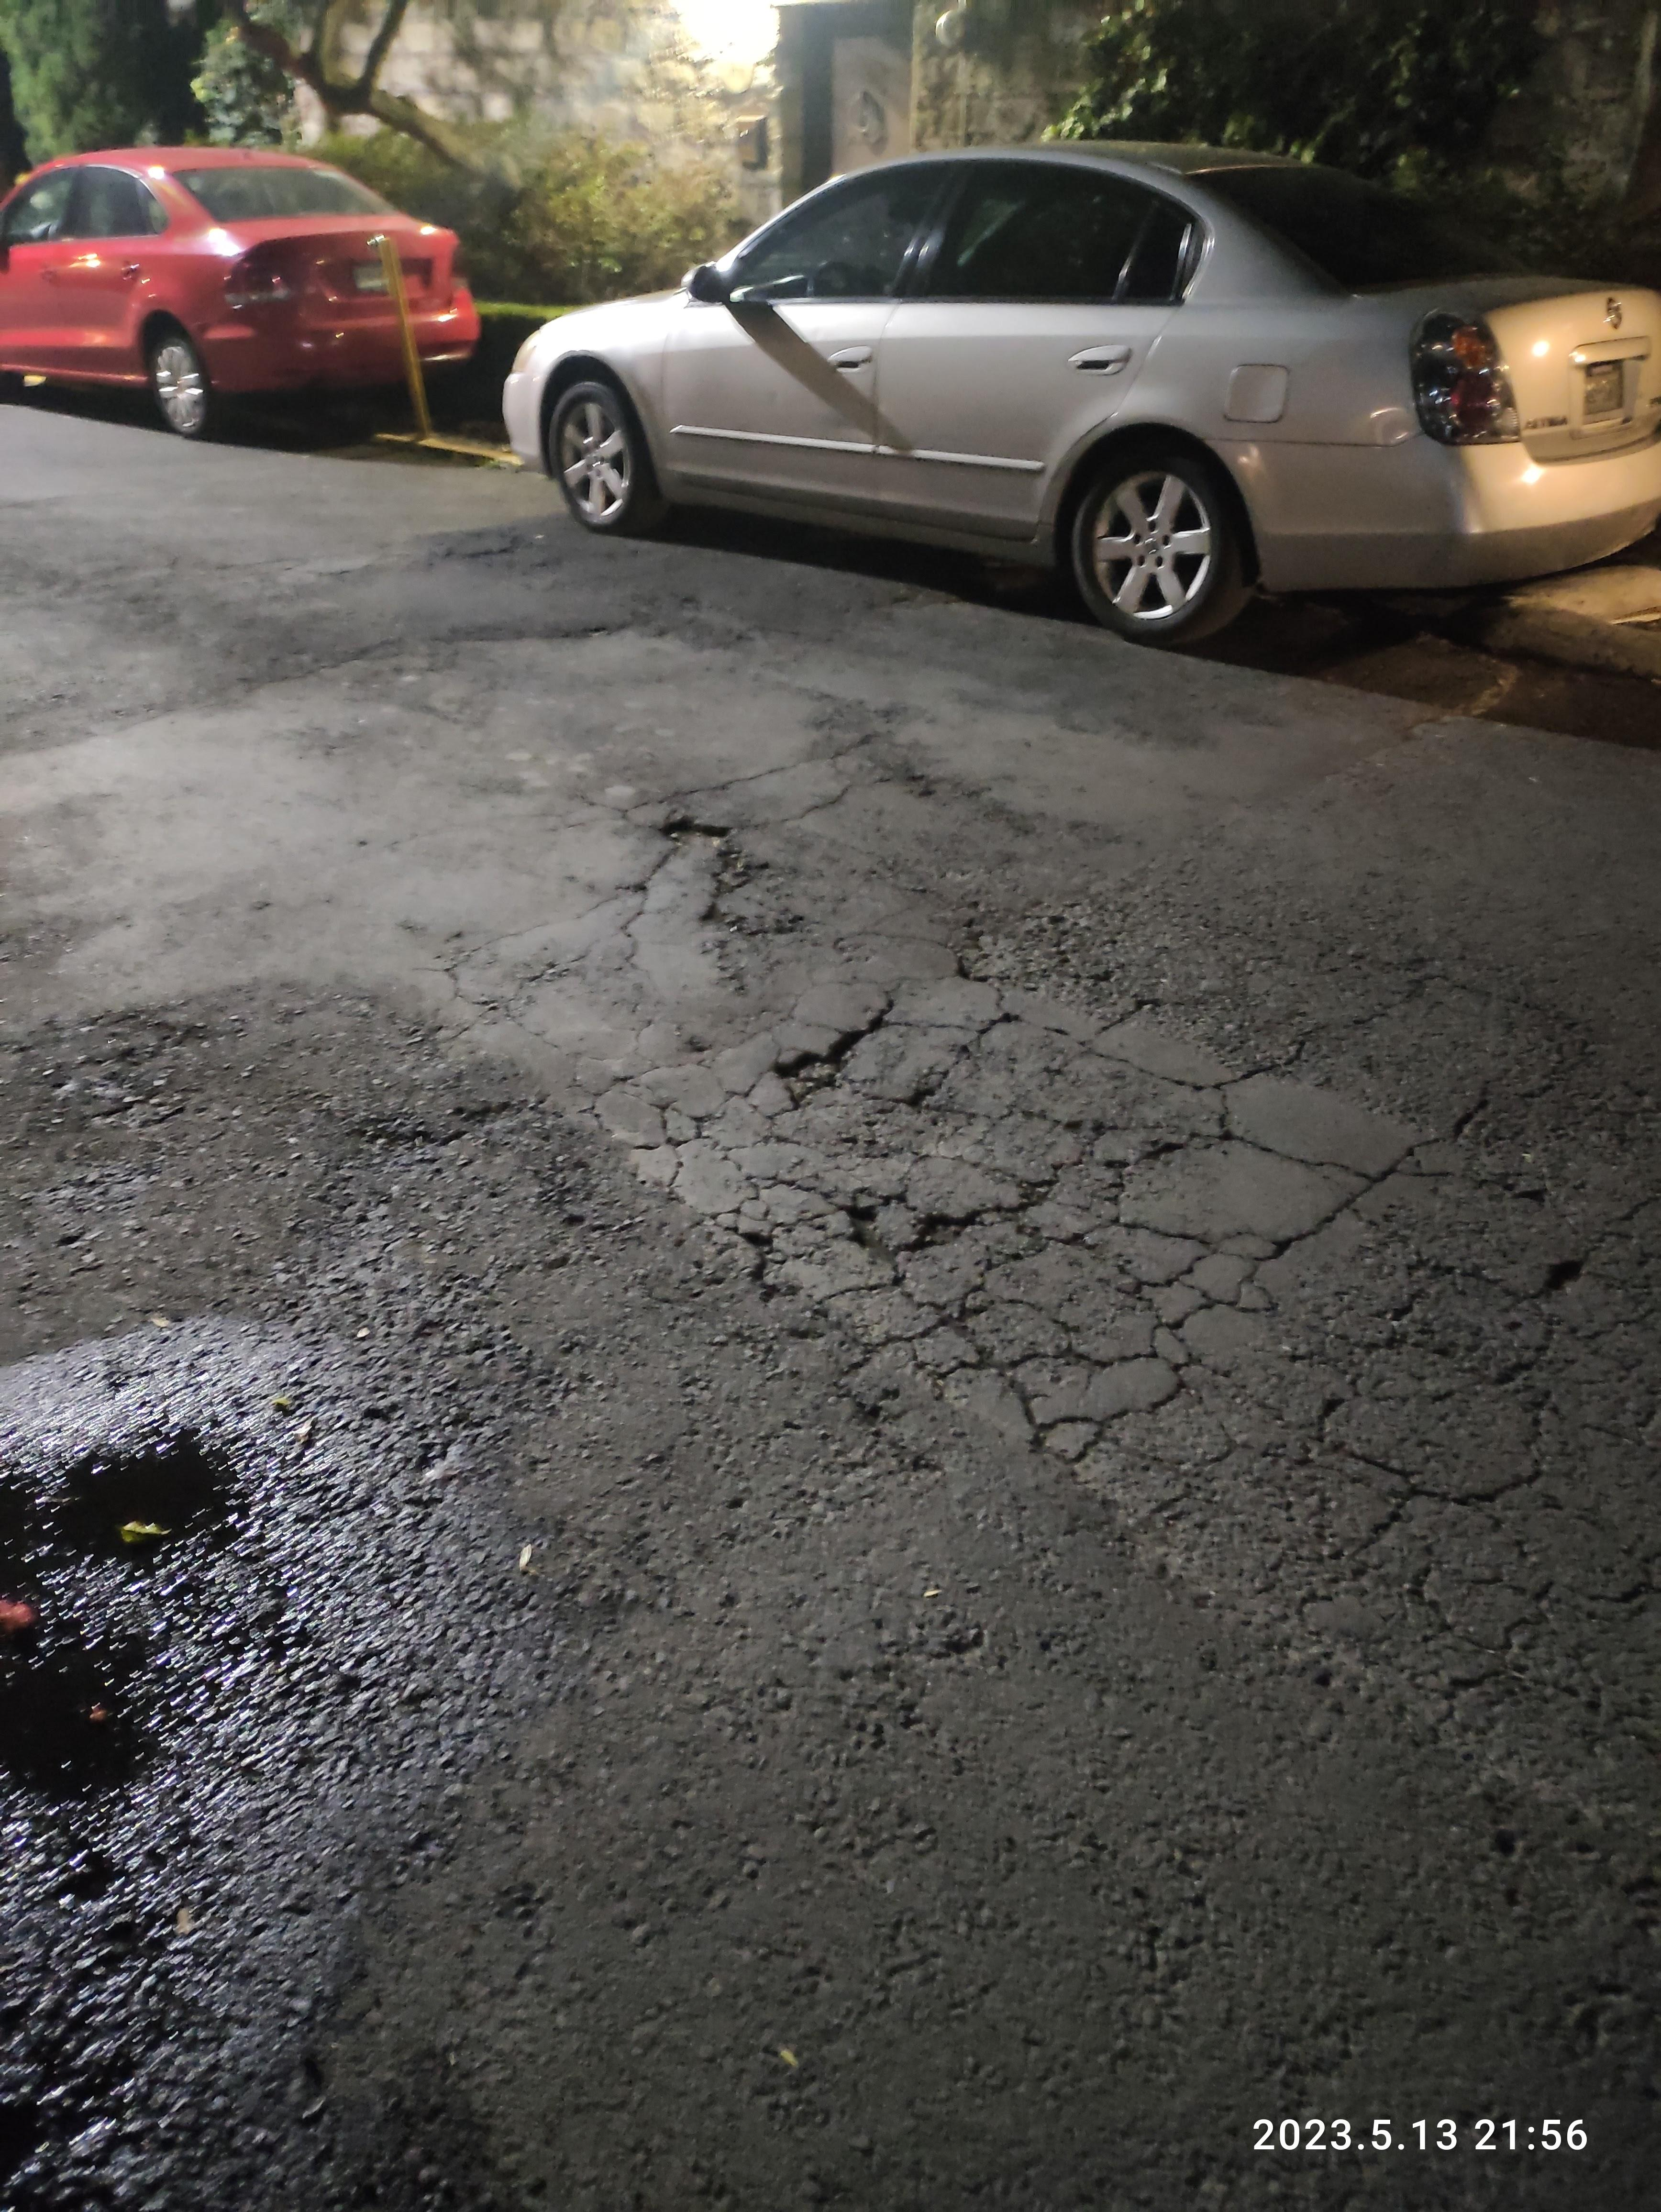alligator-crack: (555, 801, 1661, 1704)
